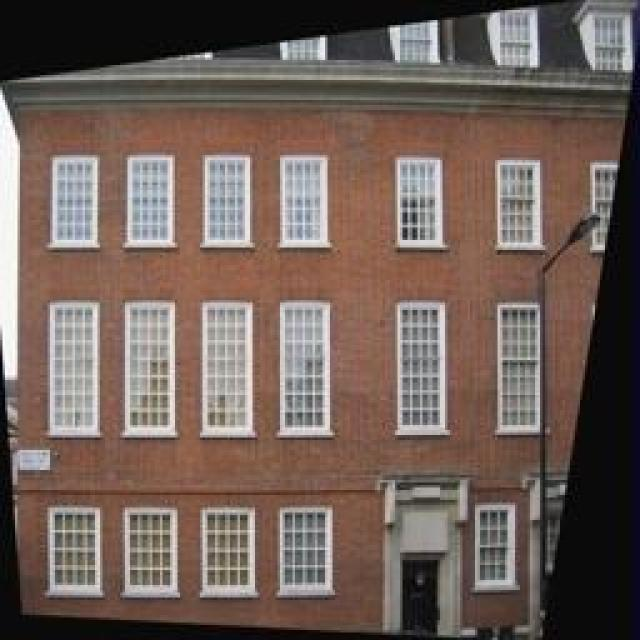Window: (280, 302, 328, 428), (205, 305, 253, 430), (50, 305, 95, 430), (128, 304, 168, 428), (400, 304, 440, 428), (502, 307, 536, 425), (52, 160, 96, 242), (398, 160, 440, 245), (498, 160, 540, 245), (130, 157, 170, 240), (282, 157, 322, 240), (52, 512, 96, 586), (280, 512, 325, 582), (130, 514, 172, 588), (207, 160, 245, 240), (208, 515, 248, 585), (480, 510, 510, 580), (595, 18, 625, 70), (502, 15, 532, 63), (402, 30, 428, 60)
